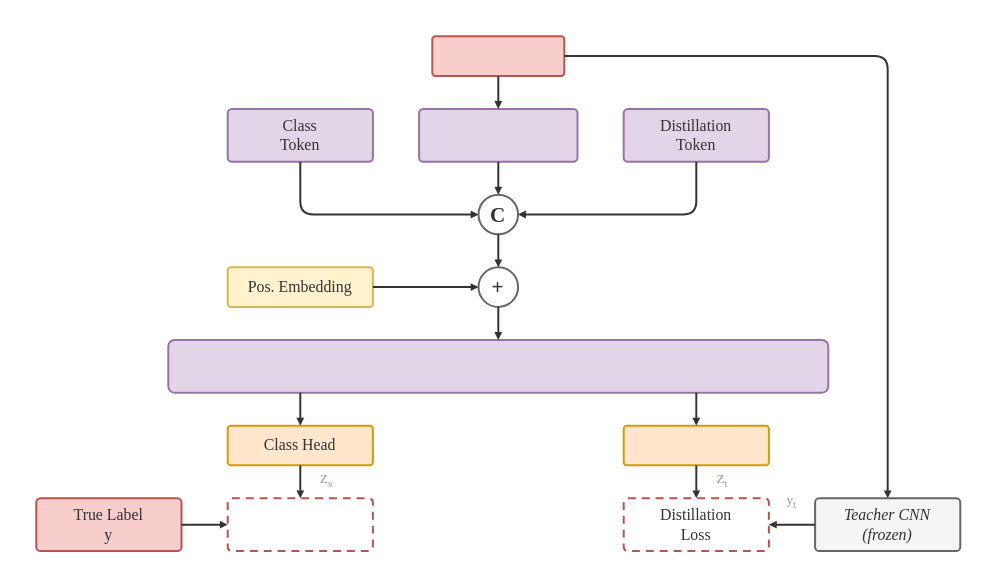
Some shapes in this 995 by 586 pixel diagram are drawn without their labels. Each missing label, with the box of its shape:
Cross-Entropy Loss: (226, 497, 373, 551)
Distill. Head: (622, 424, 769, 466)
Image: (431, 35, 565, 76)
Patch Embedding: (418, 107, 578, 162)
Transformer Encoder × L (Self-Attention + FFN): (167, 338, 829, 393)
